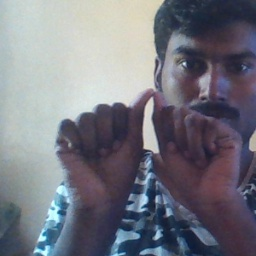A: (56, 86, 243, 199)
